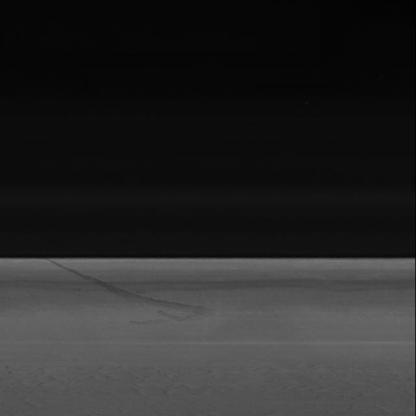water_spot: (43, 260, 218, 325)
